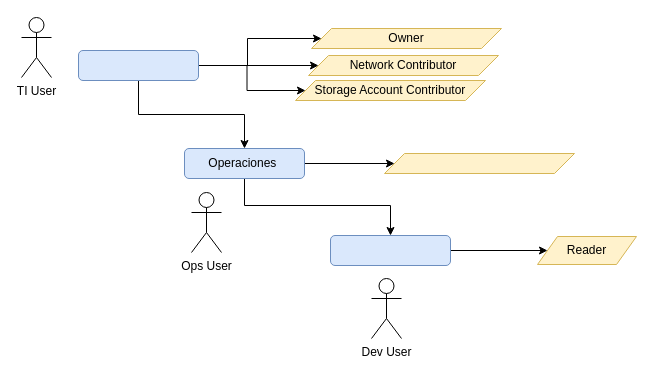
This 654x377 diagram has some shape labels left out. Here are the shapes that lost their labels. From the top down, the box of each, then its label:
(78, 50, 198, 80): Infraestructura
(384, 152, 574, 174): Monitoring Contributor
(330, 234, 450, 266): Desarrollo
